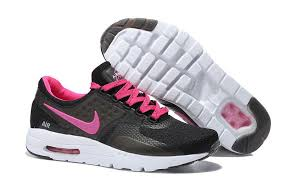nike: (42, 102, 101, 135)
